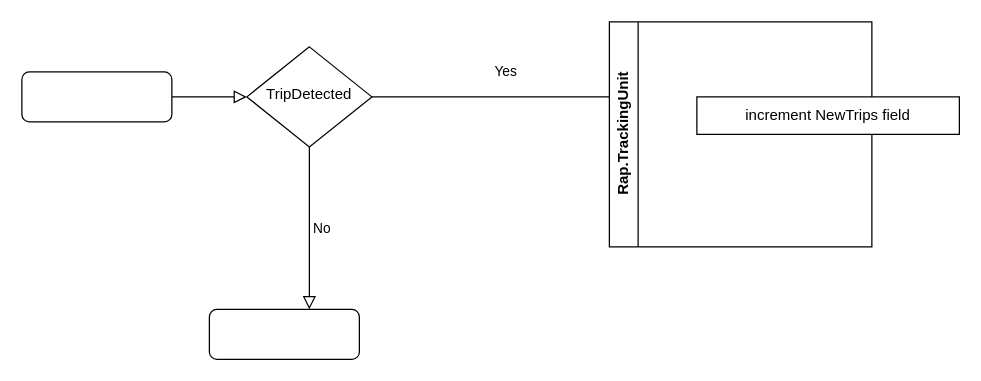
Image size: 981x381. Some labels were removed from this diagram. Each missing label, with the centre of its shape:
RatPacker: the point at 96,96
Replace Bulb: the point at 283,333
